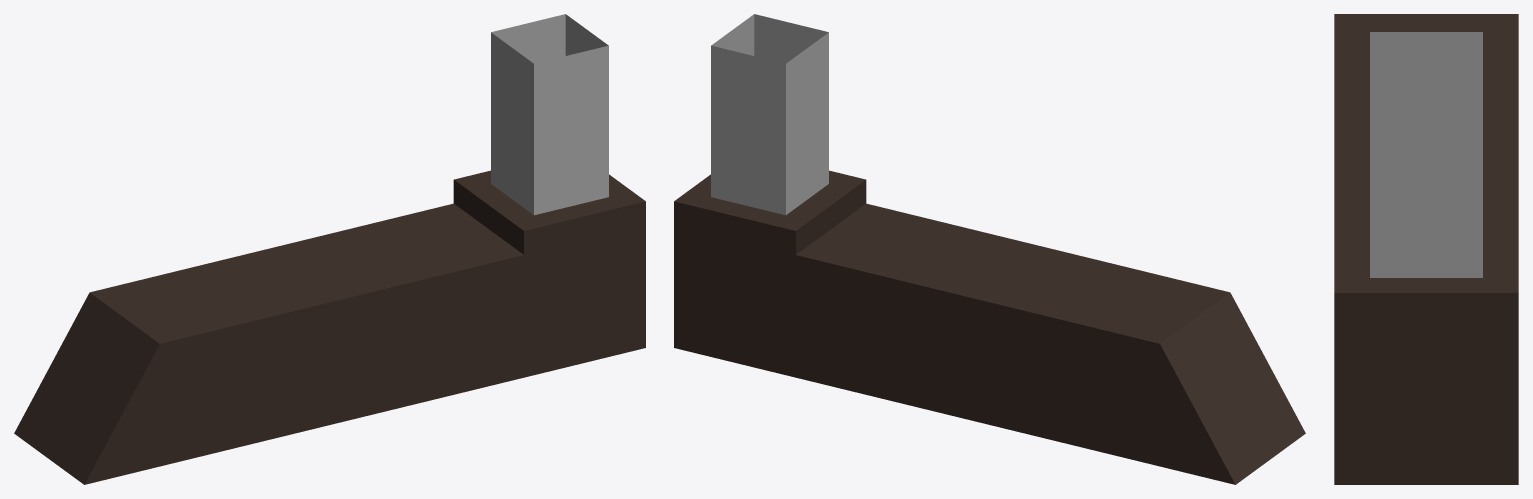
Rendered from Door_Handle_2.obj.
The picture shows the model from 3 angles, left to right: view 1: azimuth 30°, elevation 25°; view 2: azimuth 150°, elevation 25°; view 3: azimuth 270°, elevation 25°; orthographic projection. The views are drawn at different scales.
Parts seen in each view (by area): view 1: Door_Handle_2; view 2: Door_Handle_2; view 3: Door_Handle_2.
Part boxes in pixels (left/top/right/bottom): Door_Handle_2: left=14, top=14, right=645, bottom=484; Door_Handle_2: left=674, top=14, right=1305, bottom=484; Door_Handle_2: left=1334, top=14, right=1518, bottom=484.
Size of the model in its own units: 0.2135 by 0.1083 by 0.0463.
